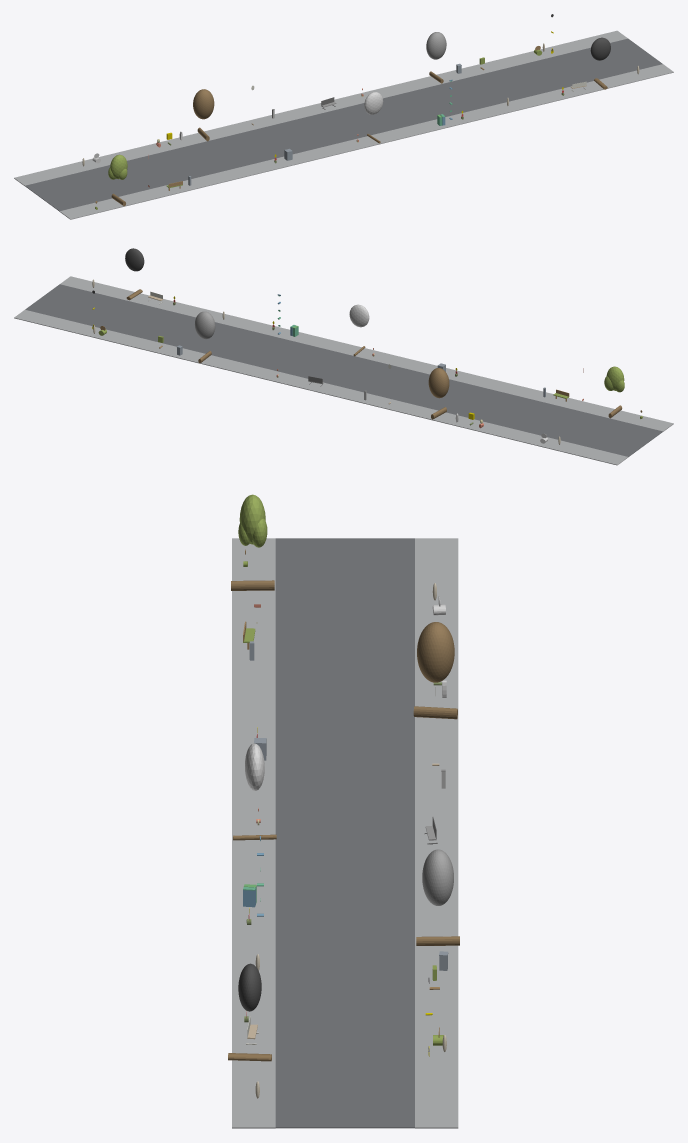
3 renders of one model, top to bottom at view 1: azimuth 30°, elevation 25°; view 2: azimuth 150°, elevation 25°; view 3: azimuth 270°, elevation 25°, orthographic. The views are drawn at different scales.
Parts seen in each view (by area): view 1: road_slab, sidewalk_left, sidewalk_right, inst_0013, inst_0015, inst_0012, inst_0016, inst_0014; view 2: road_slab, sidewalk_right, sidewalk_left, inst_0013, inst_0015, inst_0012, inst_0016, inst_0014; view 3: road_slab, sidewalk_left, sidewalk_right, inst_0013, inst_0015, inst_0012, inst_0016, inst_0014.
Part boxes in pixels (box(x1,y1,x2,y2)): road_slab: box(25, 38, 662, 211); sidewalk_left: box(59, 64, 673, 219); sidewalk_right: box(14, 30, 627, 185); inst_0013: box(193, 89, 214, 141); inst_0015: box(426, 32, 446, 83); inst_0012: box(108, 154, 127, 206); inst_0016: box(590, 37, 610, 89); inst_0014: box(364, 92, 383, 143); road_slab: box(25, 284, 662, 456); sidewalk_right: box(14, 310, 628, 465); sidewalk_left: box(60, 276, 673, 431); inst_0013: box(428, 368, 449, 419); inst_0015: box(195, 311, 215, 363); inst_0012: box(604, 366, 624, 418); inst_0016: box(125, 248, 144, 300); inst_0014: box(349, 304, 369, 356); road_slab: box(275, 538, 414, 1128); sidewalk_left: box(232, 538, 275, 1128); sidewalk_right: box(415, 538, 458, 1128); inst_0013: box(413, 622, 457, 719); inst_0015: box(416, 849, 459, 945); inst_0012: box(231, 494, 274, 590); inst_0016: box(228, 963, 271, 1061); inst_0014: box(233, 743, 276, 840).
Size of the model in its own units: 80 by 6.08 by 13.32.
